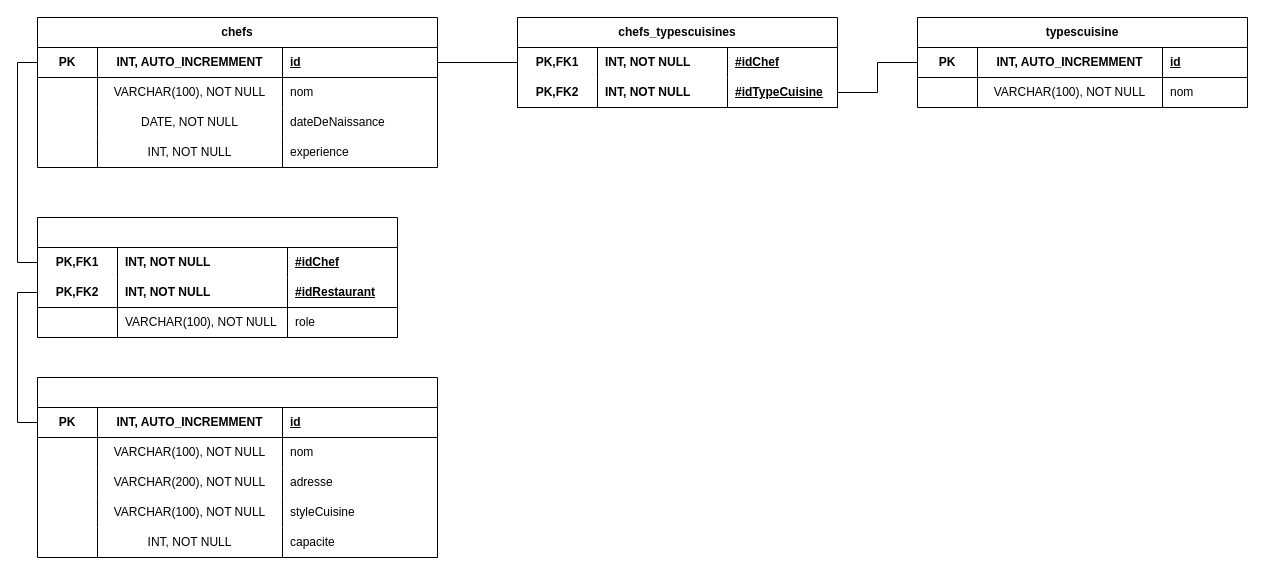
Some shapes in this 1265 by 575 pixel diagram are drawn without their labels. Each missing label, with the box of its shape:
chefs_restaurants: (36, 216, 398, 338)
restaurants: (36, 376, 438, 558)
